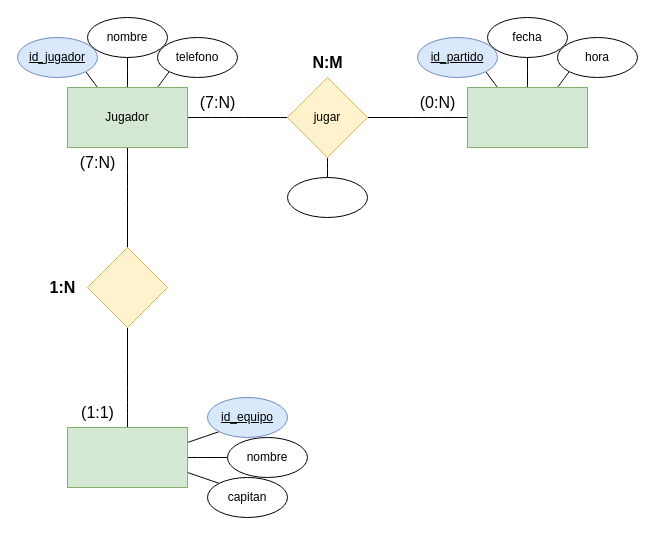
The diagram is 655 pixels wide and 535 high, and some of its shapes have lost their labels. Each missing label, with the box of its shape:
Equipo: (66, 426, 188, 488)
formar parte: (86, 246, 168, 328)
Partido: (466, 86, 588, 148)
posicion: (286, 176, 368, 218)
